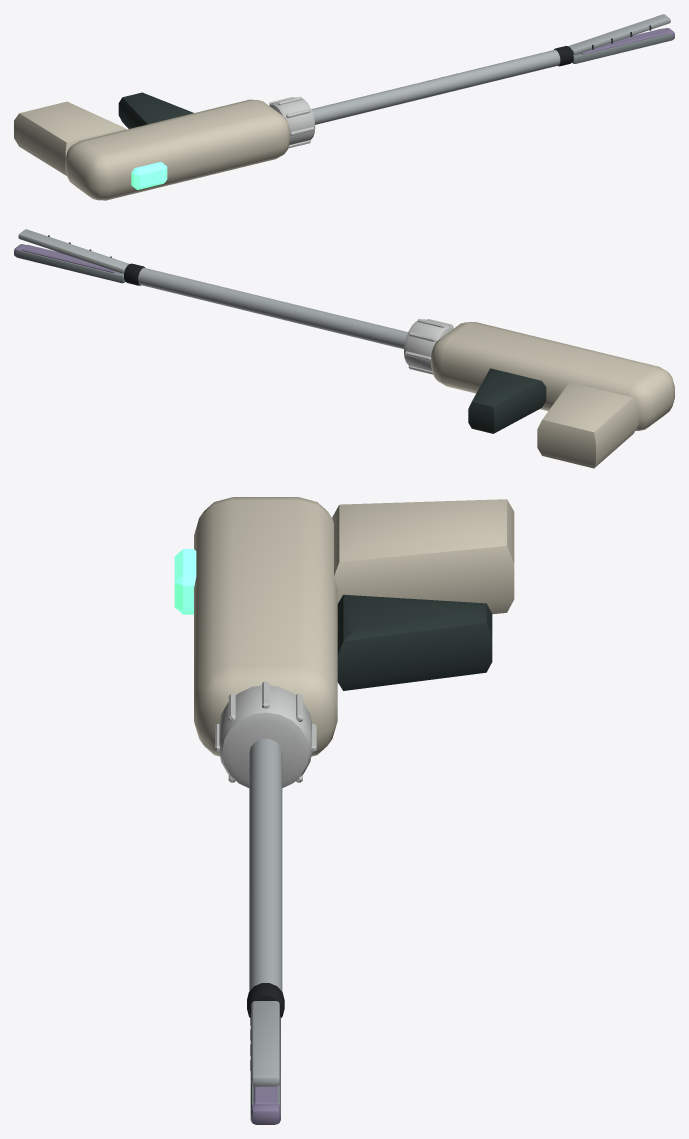
File: sc-endo-stapler.glb
The picture shows the model from 3 angles, top to bottom: view 1: azimuth 30°, elevation 25°; view 2: azimuth 150°, elevation 25°; view 3: azimuth 270°, elevation 25°; orthographic projection. The views are drawn at different scales.
Visible parts, largest first — view 1: sc-endo-stapler; view 2: sc-endo-stapler; view 3: sc-endo-stapler.
Boxes of the visible parts, box(x1,y1,x2,y2) form: sc-endo-stapler: box(14, 14, 674, 200); sc-endo-stapler: box(14, 229, 674, 468); sc-endo-stapler: box(174, 497, 514, 1124).
Bounding box in the file's own units: 0.4985 × 0.0368 × 0.123.
